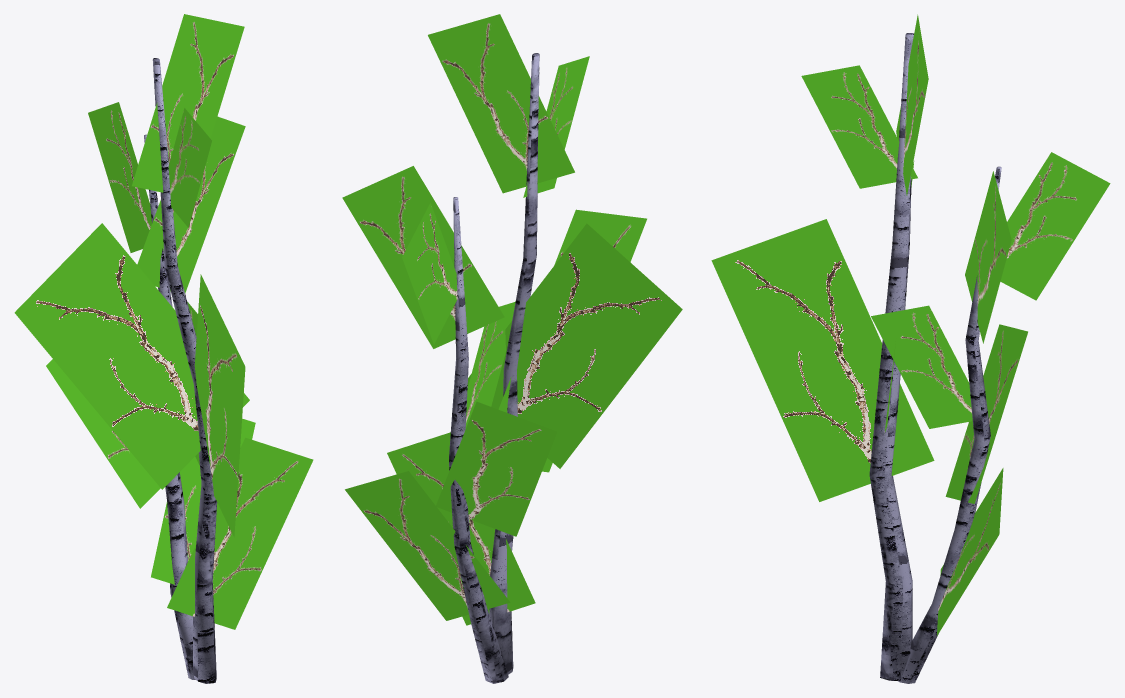
The model's file is koivu3.glb.
3 renders of one model, left to right at view 1: azimuth 30°, elevation 25°; view 2: azimuth 150°, elevation 25°; view 3: azimuth 270°, elevation 25°, orthographic.
Visible parts, largest first — view 1: Koivu.002; view 2: Koivu.002; view 3: Koivu.002.
Part boxes in pixels (left/top/right/bottom): Koivu.002: left=14, top=14, right=313, bottom=683; Koivu.002: left=342, top=14, right=682, bottom=683; Koivu.002: left=711, top=14, right=1110, bottom=683.
Bounding box in the file's own units: 13.1 × 28.07 × 15.34.
Materials: 2 (2 with a texture image).
